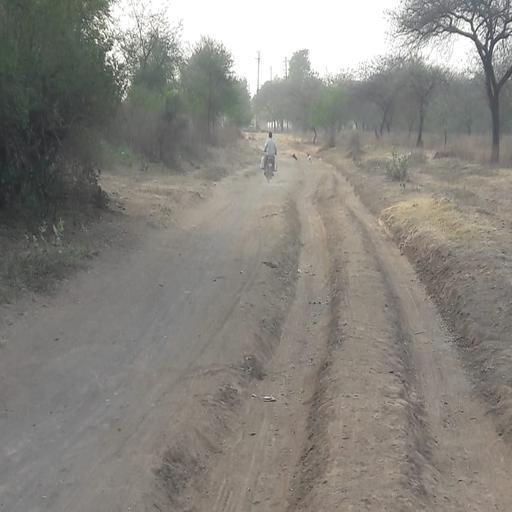vehicle_track: (0, 181, 280, 512), (337, 176, 512, 512), (190, 177, 331, 512)
